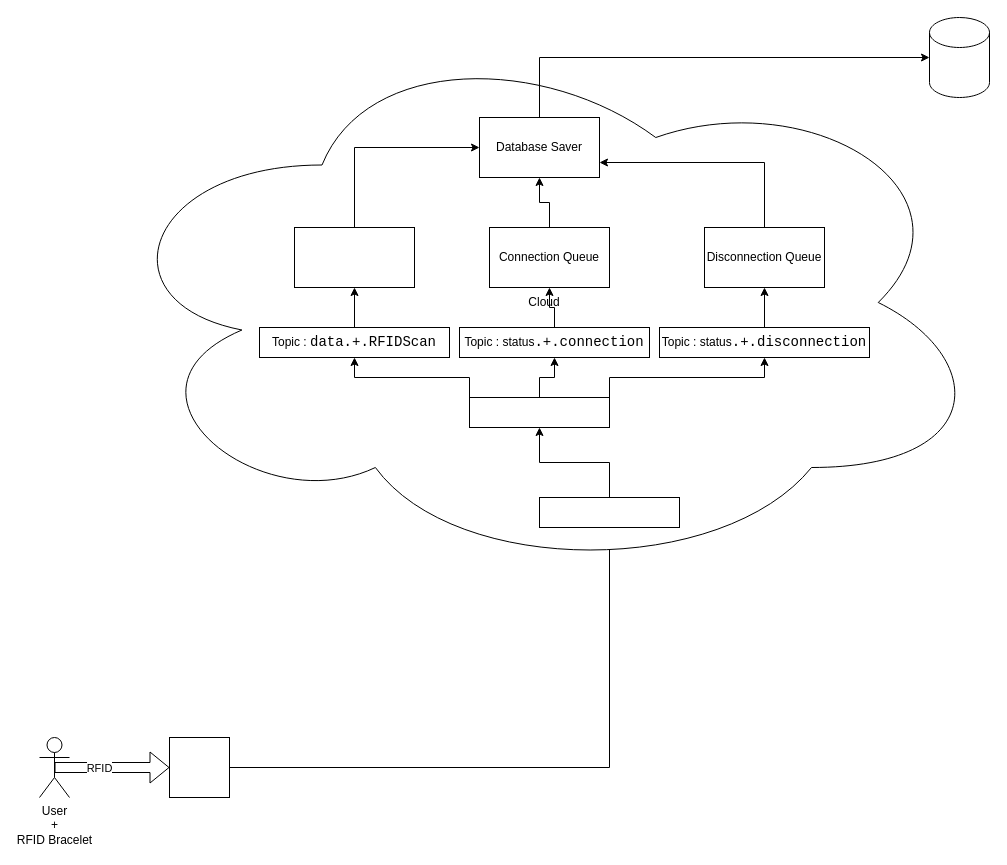
Some shapes in this 1007 by 865 pixel diagram are drawn without their labels. Here are the shapes that lost their labels. From the top down, the box of each, then its label:
(294, 226, 414, 288): Data Queue
(468, 396, 610, 428): Rabbit MQTT Exchange
(538, 496, 680, 528): RabbitMQ MQTT Broker
(168, 736, 230, 798): Totem
